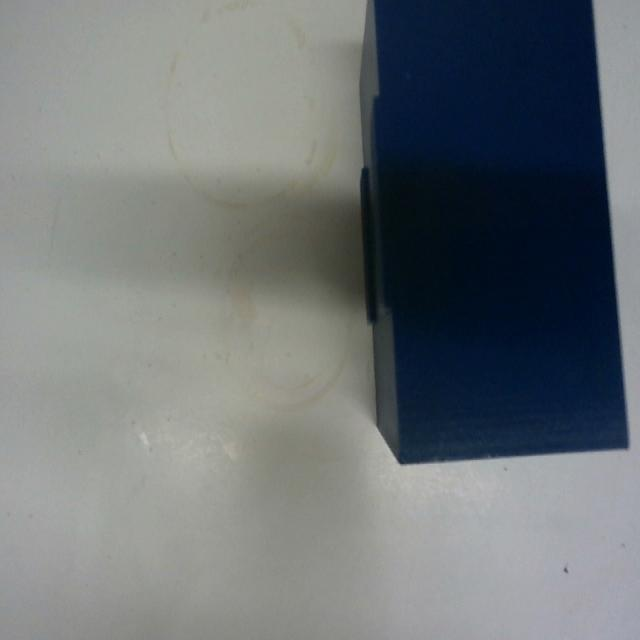Blue Cuboid: (356, 0, 630, 467)
